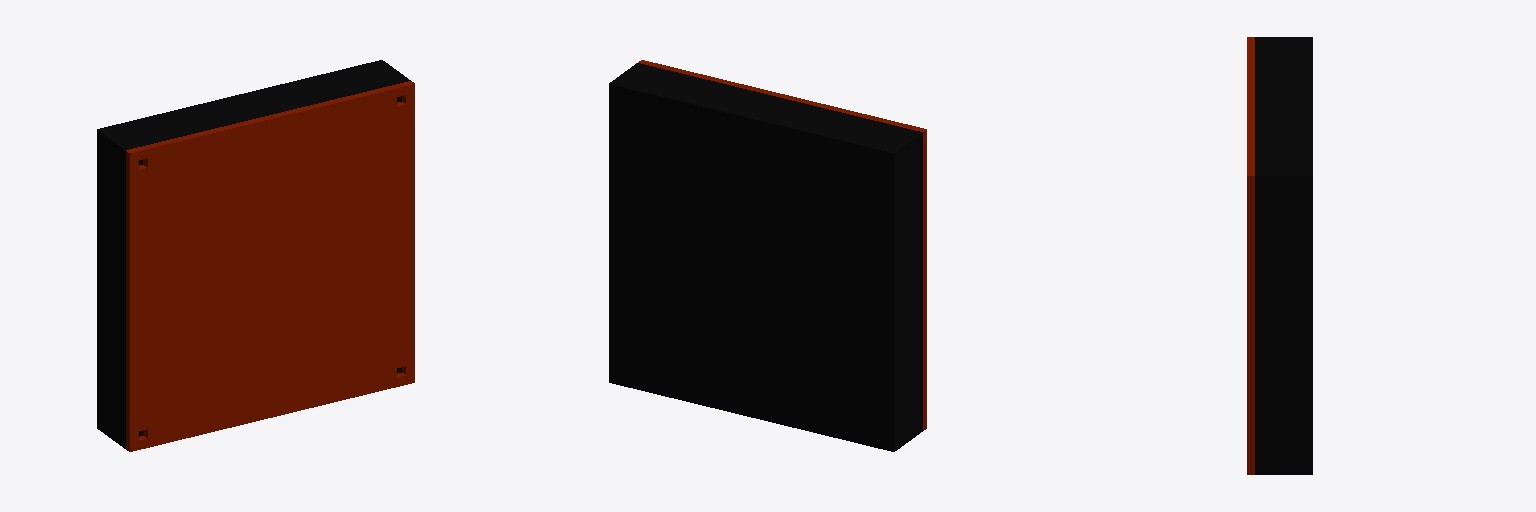
3 renders of one model, left to right at view 1: azimuth 30°, elevation 25°; view 2: azimuth 150°, elevation 25°; view 3: azimuth 270°, elevation 25°, orthographic.
Visible parts, largest first — view 1: Object.1; view 2: Object.1; view 3: Object.1.
Boxes of the visible parts, x1=… form: Object.1: x1=97, y1=60, x2=414, y2=451; Object.1: x1=609, y1=60, x2=926, y2=451; Object.1: x1=1247, y1=37, x2=1312, y2=474.
Bounding box in the file's own units: 1 × 1 × 0.2.
Materials: 1 (1 with a texture image).